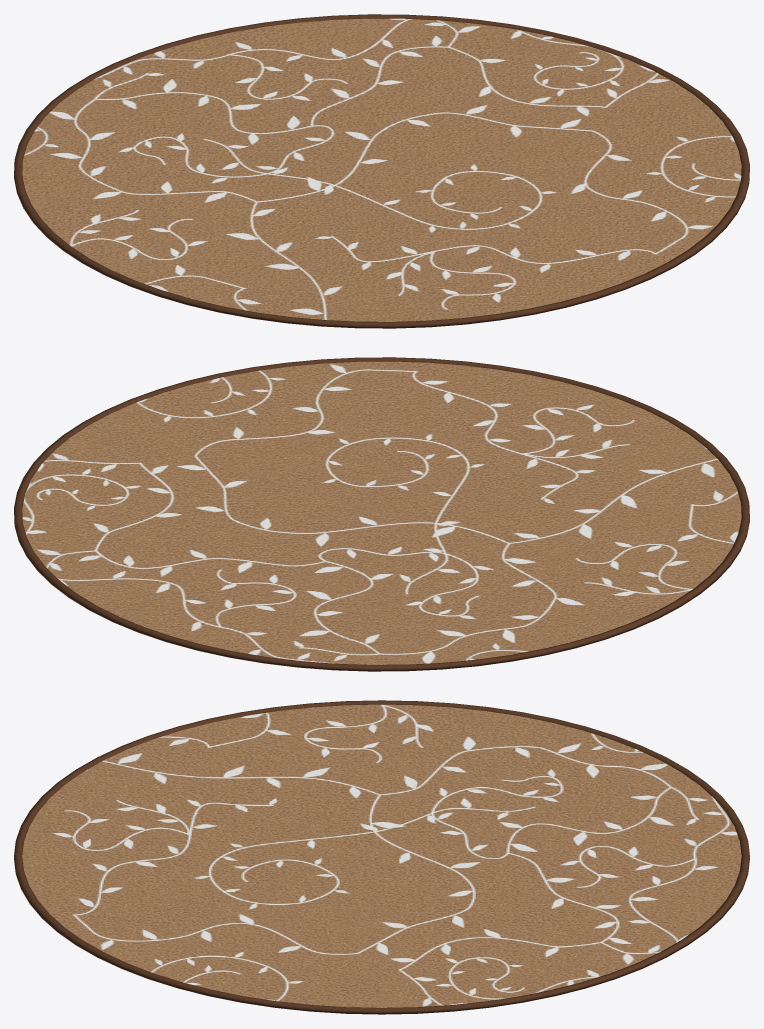
File: decorcarpet.glb
3 views of the same model, one above another, from view 1: azimuth 30°, elevation 25°; view 2: azimuth 150°, elevation 25°; view 3: azimuth 270°, elevation 25° (orthographic).
Parts seen in each view (by area): view 1: int_rug_Cylinder.001, ext_rug_Cylinder; view 2: int_rug_Cylinder.001, ext_rug_Cylinder; view 3: int_rug_Cylinder.001, ext_rug_Cylinder.
Part boxes in pixels (<box>): int_rug_Cylinder.001: <box>22,18,741,321</box>; ext_rug_Cylinder: <box>14,14,749,328</box>; int_rug_Cylinder.001: <box>22,361,741,664</box>; ext_rug_Cylinder: <box>14,357,749,671</box>; int_rug_Cylinder.001: <box>22,704,741,1007</box>; ext_rug_Cylinder: <box>14,700,749,1014</box>.
Bounding box in the file's own units: 4.76 × 0.031 × 4.76.
2 materials, 1 textured.
